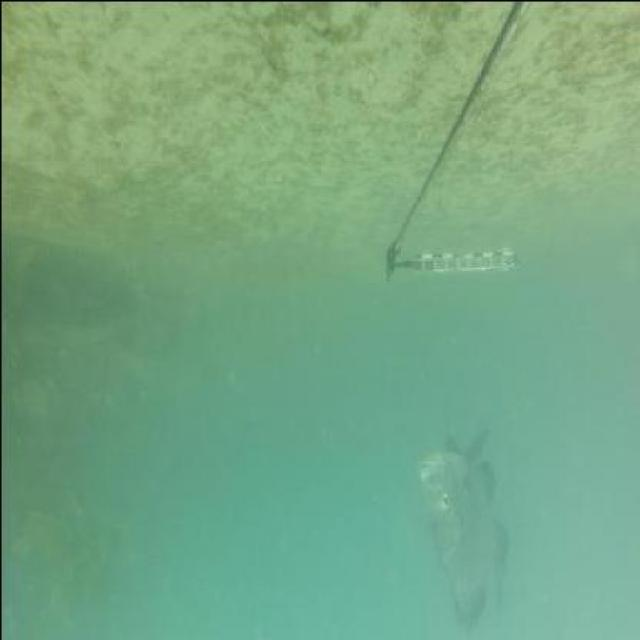acanthopagrus_palmaris: (413, 418, 507, 630)
